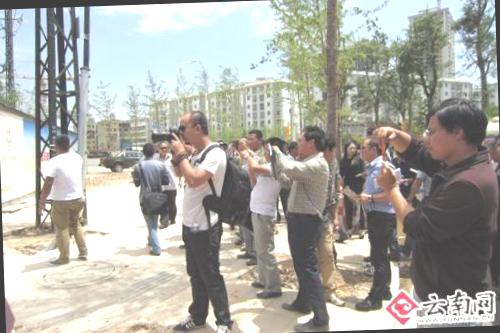no_helmet: (421, 97, 489, 165), (178, 110, 209, 150), (296, 124, 328, 160), (359, 134, 387, 161), (50, 127, 74, 158), (264, 132, 285, 160), (244, 126, 262, 150), (154, 138, 172, 160), (139, 138, 155, 162), (343, 134, 358, 156)
